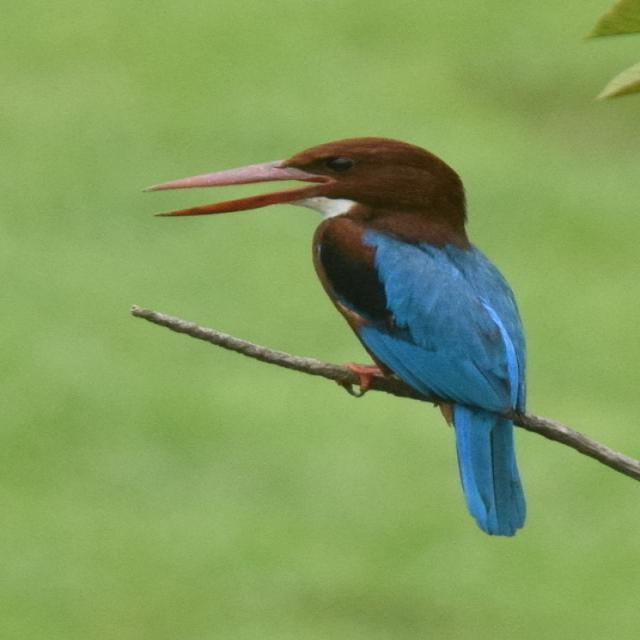kingfisher: (96, 103, 582, 544)
